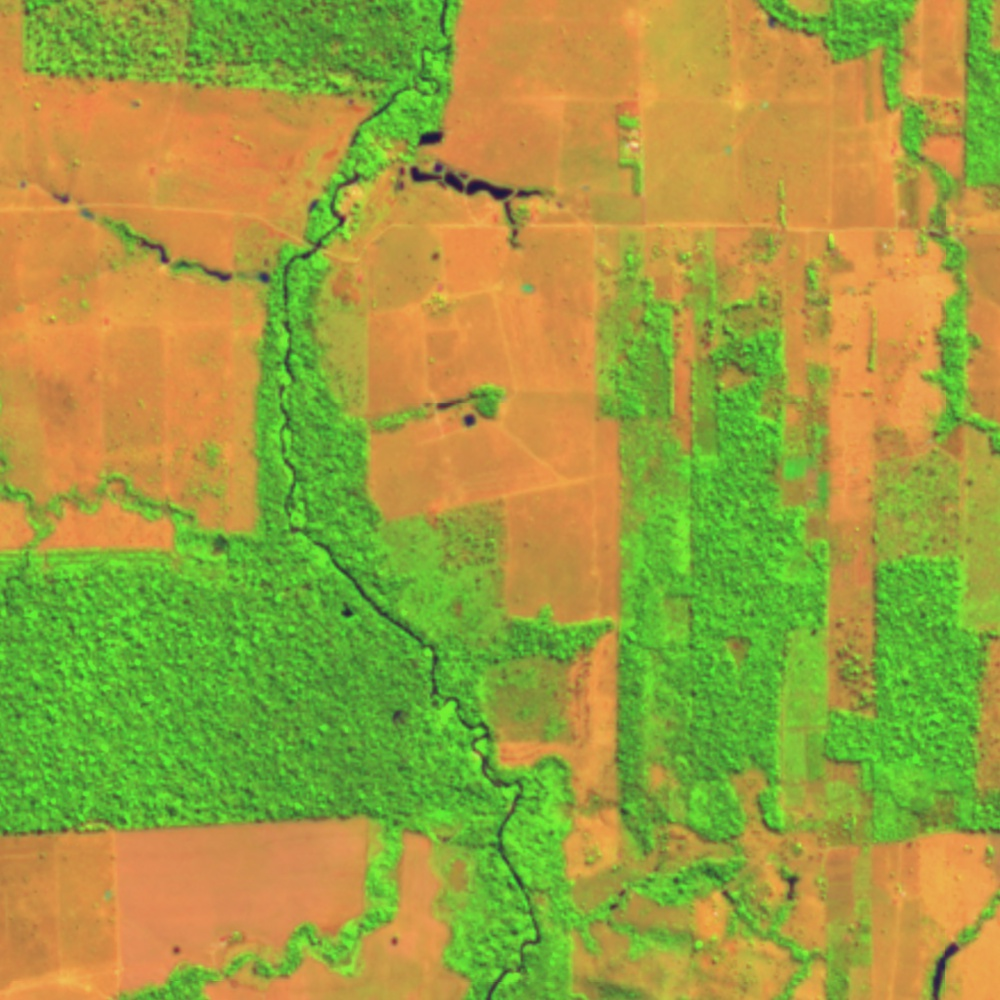legal: (13, 168, 276, 282), (396, 125, 562, 248), (600, 863, 807, 915), (424, 378, 503, 434), (926, 931, 971, 1000), (389, 707, 413, 733), (334, 596, 354, 627)
